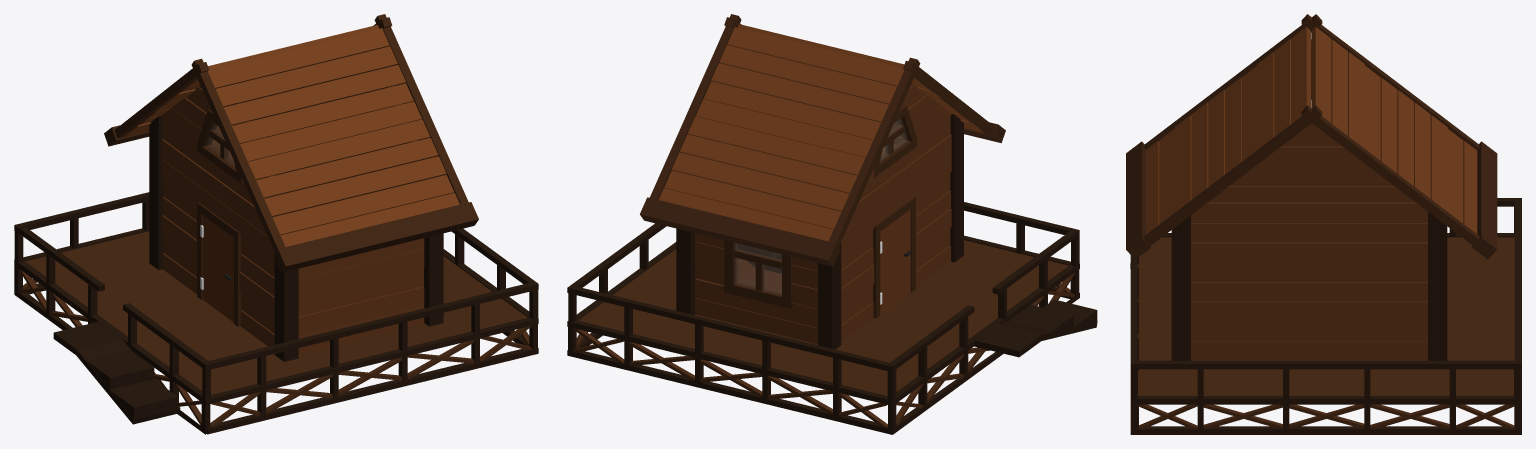
Rendered from Второй дом.obj.
3 views of the same model, side by side, from view 1: azimuth 30°, elevation 25°; view 2: azimuth 150°, elevation 25°; view 3: azimuth 270°, elevation 25° (orthographic). The views are drawn at different scales.
Parts seen in each view (by area): view 1: Куб.002_Куб.095, Куб_Куб.209; view 2: Куб.002_Куб.095, Куб_Куб.209; view 3: Куб.002_Куб.095.
Boxes of the visible parts, bbox=[...] form: Куб.002_Куб.095: bbox=[14, 14, 538, 434]; Куб_Куб.209: bbox=[202, 215, 233, 322]; Куб.002_Куб.095: bbox=[567, 14, 1097, 434]; Куб_Куб.209: bbox=[880, 209, 911, 313]; Куб.002_Куб.095: bbox=[1126, 14, 1521, 434].
Bounding box in the file's own units: 10.44 × 7.61 × 9.26.
